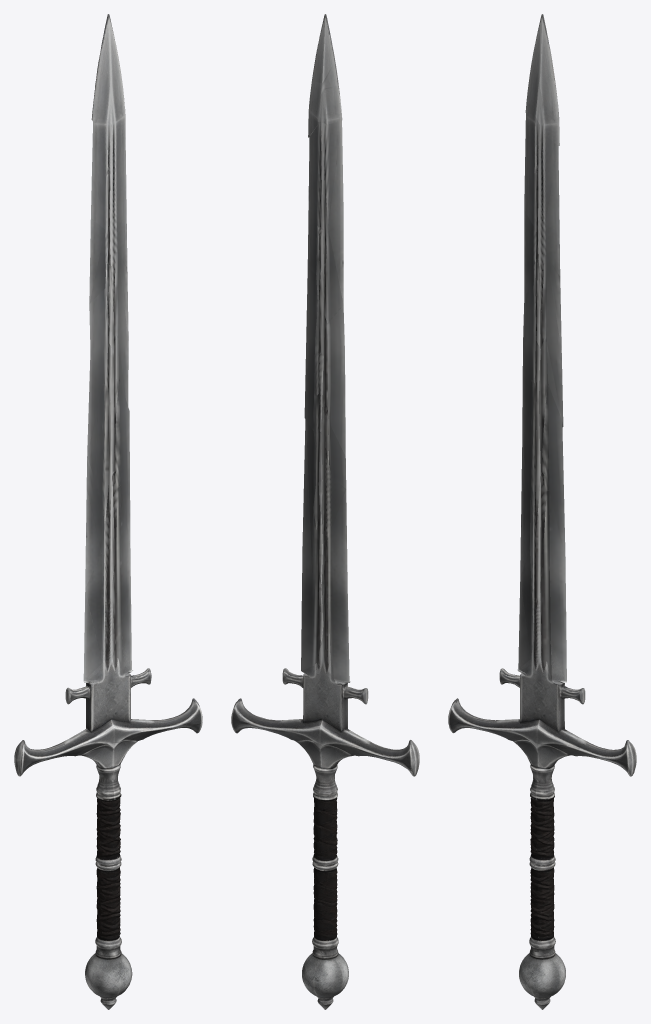
The model's file is GRS032_Remesh_10k.fbx.
The picture shows the model from 3 angles, left to right: view 1: azimuth 30°, elevation 25°; view 2: azimuth 150°, elevation 25°; view 3: azimuth 330°, elevation 25°; orthographic projection.
Visible parts, largest first — view 1: output_unwrapped; view 2: output_unwrapped; view 3: output_unwrapped.
Boxes of the visible parts, x1,y1,x2,y2 form: output_unwrapped: (14,14,202,1009); output_unwrapped: (231,14,419,1009); output_unwrapped: (448,14,636,1009).
Bounding box in the file's own units: 37.04 × 190 × 8.18.
Materials: 1 (1 with a texture image).
